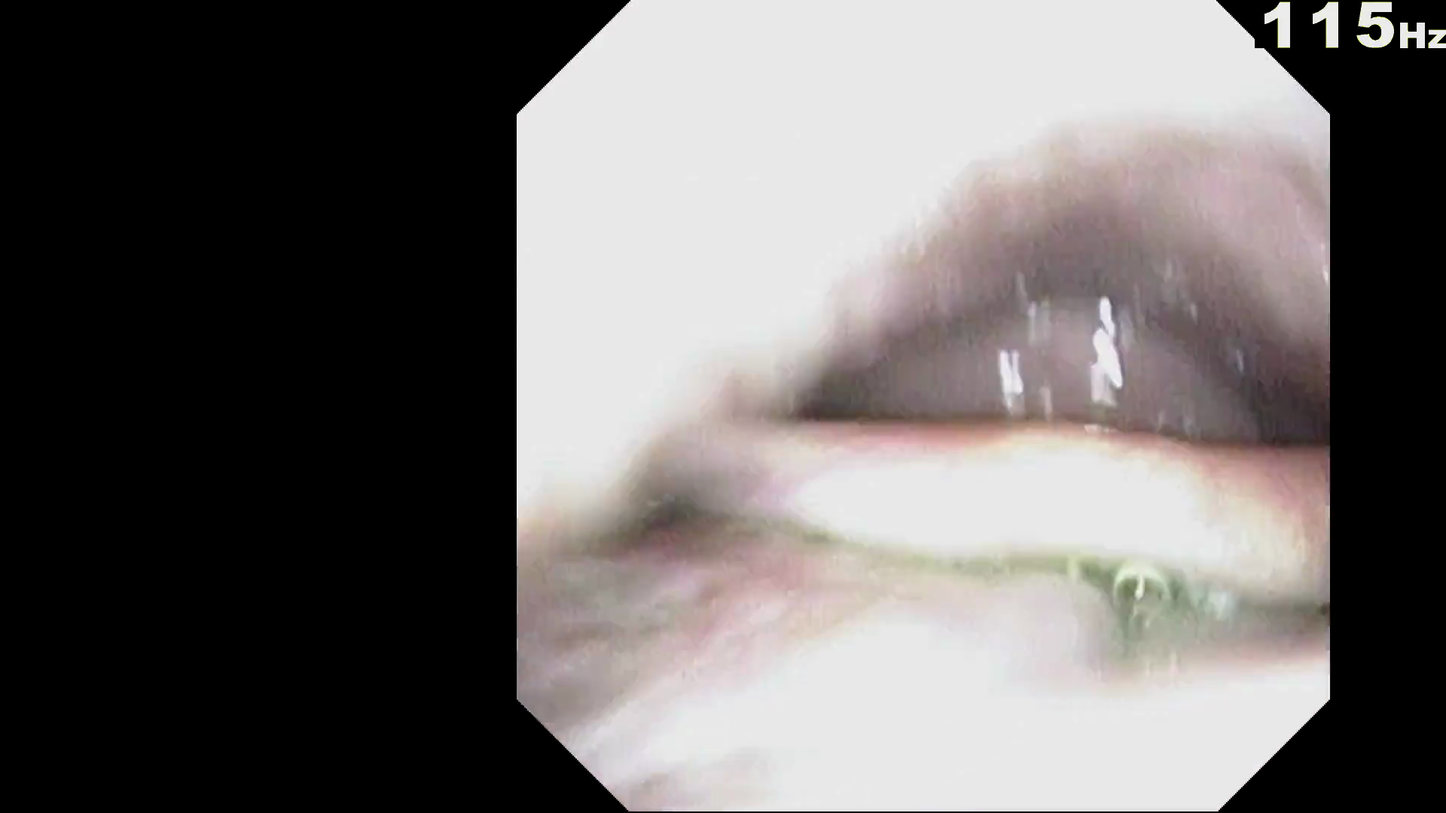epiglottis: (754, 399, 1328, 585)
